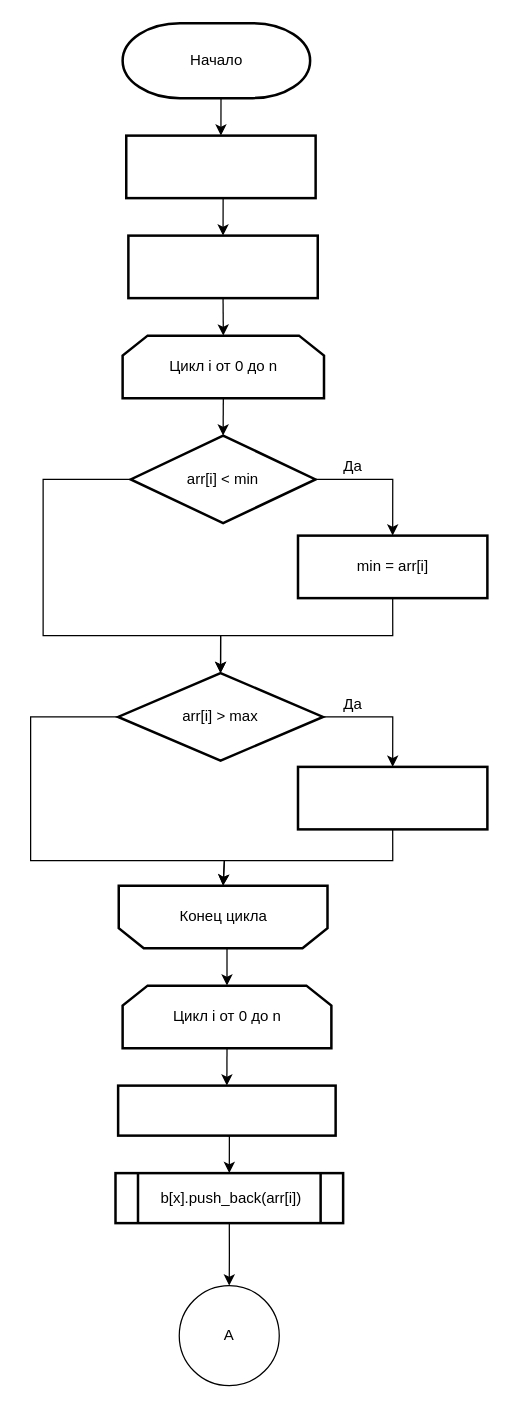
Image size: 510x1408. Some labels were removed from this diagram. The shapes that lost their labels are listed below. From the top down, each one's box as (x1, y1, x2, y2) in pixels, then its label:
(124, 134, 316, 199): arr, n, number_of_bucketsb[][]
(126, 234, 318, 299): max = arr[0], min = arr[0]
(296, 765, 488, 830): max = arr[i]
(116, 1084, 336, 1136): x = n * arr[i]
